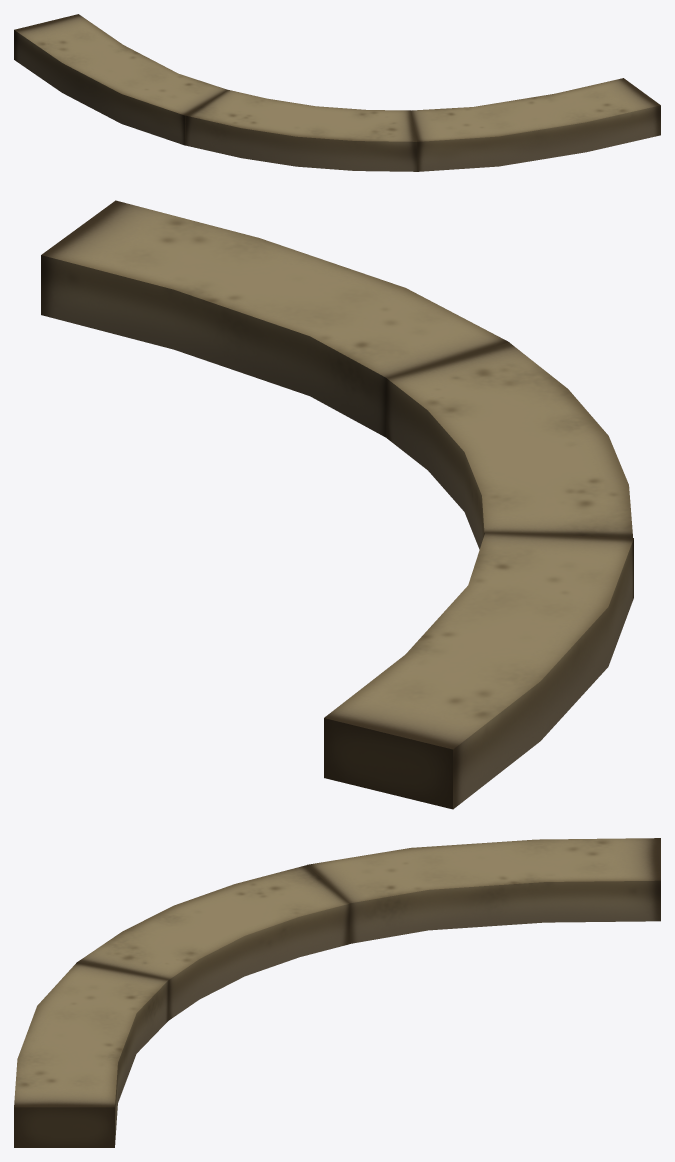
File: streetBrick_curve.fbx
3 renders of one model, top to bottom at view 1: azimuth 30°, elevation 25°; view 2: azimuth 150°, elevation 25°; view 3: azimuth 270°, elevation 25°, orthographic. The views are drawn at different scales.
Visible parts, largest first — view 1: streetBrick_curve_; view 2: streetBrick_curve_; view 3: streetBrick_curve_.
Boxes of the visible parts, <box> form: streetBrick_curve_: <box>14,14,660,171</box>; streetBrick_curve_: <box>41,200,633,809</box>; streetBrick_curve_: <box>14,838,660,1147</box>.
Bounding box in the file's own units: 197 × 13.84 × 200.
